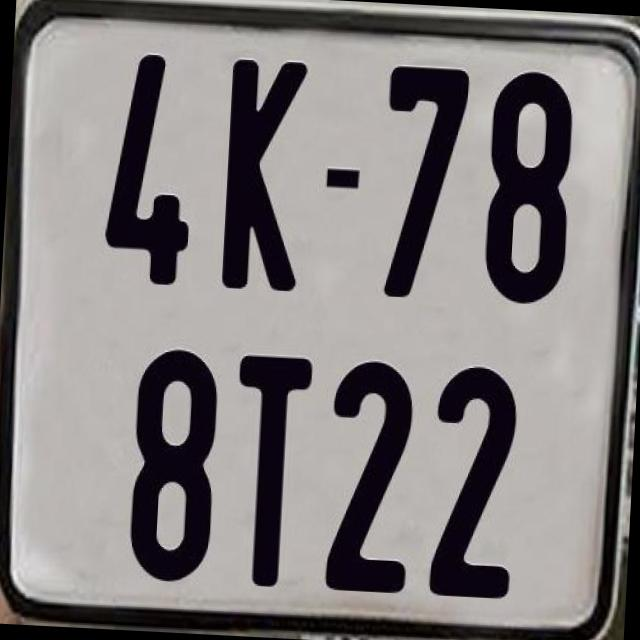2: (322, 354, 419, 598), (426, 363, 524, 601)
4: (102, 50, 202, 292)
7: (374, 64, 468, 302)
8: (124, 344, 224, 587), (482, 66, 578, 308)
K: (218, 59, 310, 295)
T: (226, 349, 313, 592)
